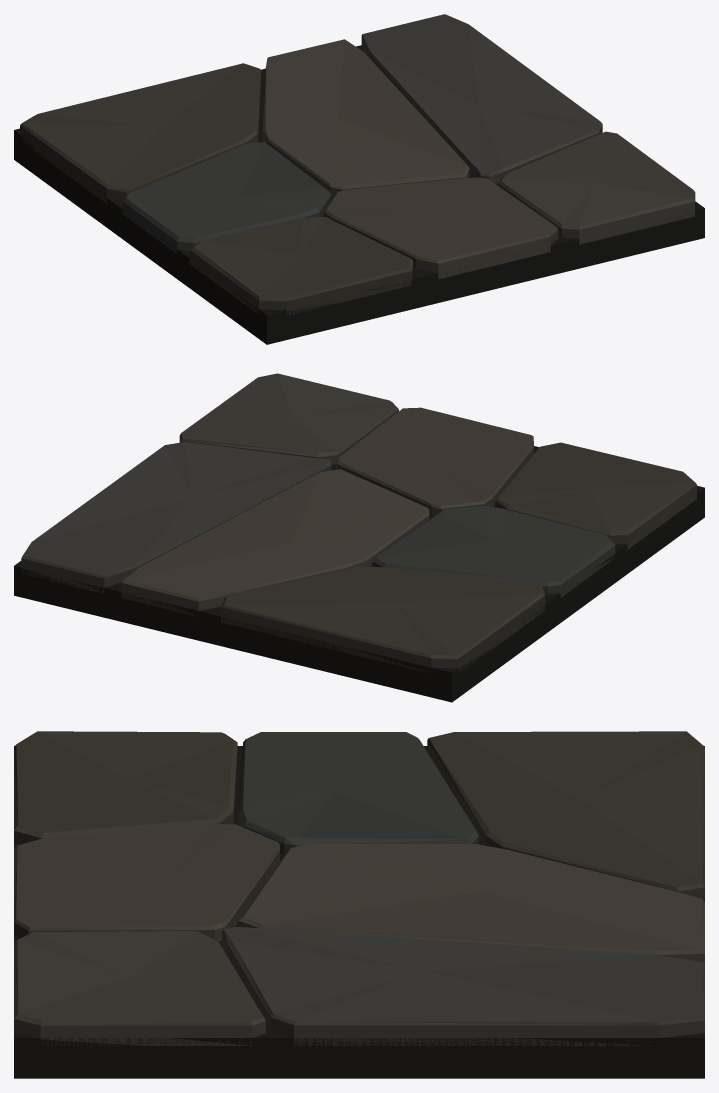
Rendered from Floor_2m_C.fbx.
The picture shows the model from 3 angles, top to bottom: view 1: azimuth 30°, elevation 25°; view 2: azimuth 150°, elevation 25°; view 3: azimuth 270°, elevation 25°; orthographic projection. The views are drawn at different scales.
Parts seen in each view (by area): view 1: Floor_2m_C; view 2: Floor_2m_C; view 3: Floor_2m_C.
Part boxes in pixels (x1=…): Floor_2m_C: x1=14, y1=14, x2=704, y2=344; Floor_2m_C: x1=14, y1=373, x2=704, y2=702; Floor_2m_C: x1=14, y1=731, x2=704, y2=1078.
Size of the model in its own units: 2 by 0.18 by 2.
1 material, 1 textured.
